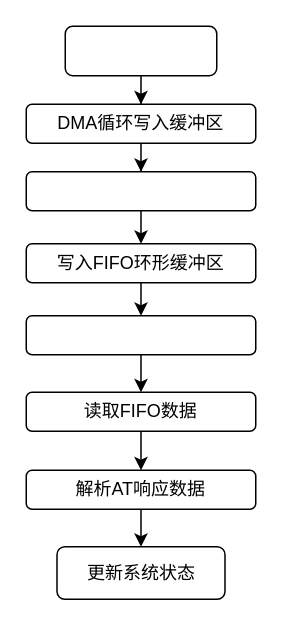
Image size: 282x626. Some labels were removed from this diagram. Here are the shapes that lost their labels. From the top down, the centre of each, then its label:
the point at 140,50: USART接收数据
the point at 140,190: 触发半区/全区中断
the point at 140,334: 检测串口空闲中断
